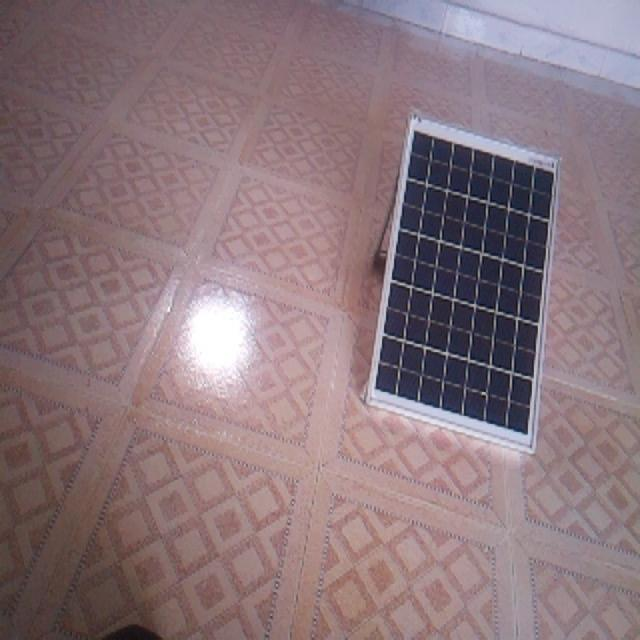Normal Solar Panel: (367, 116, 560, 453)
